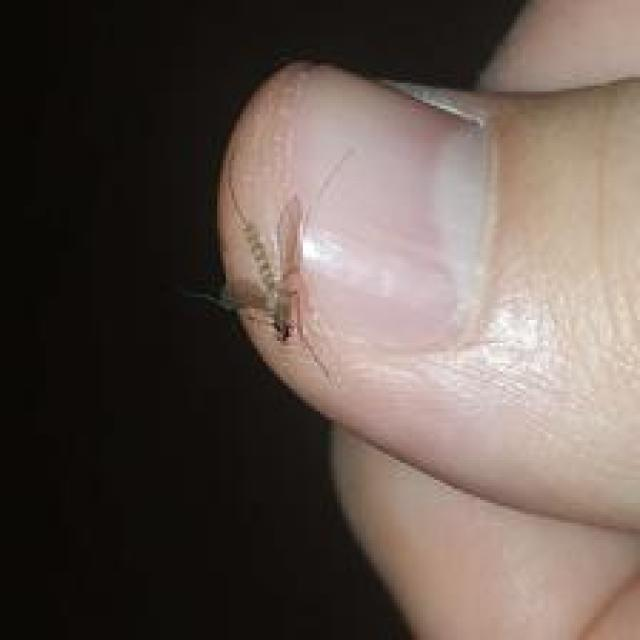Culex: (181, 147, 356, 379)
